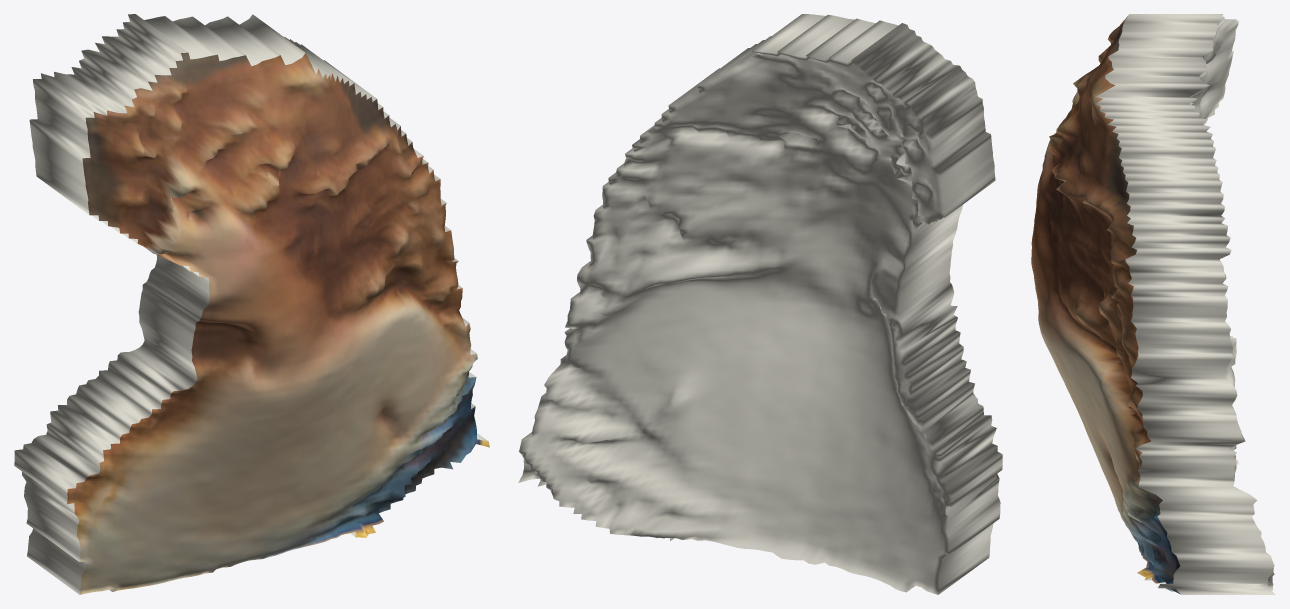
The model's file is sculpture-3.glb.
3 views of the same model, side by side, from view 1: azimuth 30°, elevation 25°; view 2: azimuth 150°, elevation 25°; view 3: azimuth 270°, elevation 25° (orthographic). The views are drawn at different scales.
Parts seen in each view (by area): view 1: ArtworkSculpture; view 2: ArtworkSculpture; view 3: ArtworkSculpture.
Part boxes in pixels (x1=…): ArtworkSculpture: x1=14, y1=14, x2=489, y2=594; ArtworkSculpture: x1=518, y1=14, x2=1002, y2=594; ArtworkSculpture: x1=1031, y1=14, x2=1275, y2=594.
Size of the model in its own units: 1.18 by 1.4 by 0.6487.
Materials: 2 (1 with a texture image).
